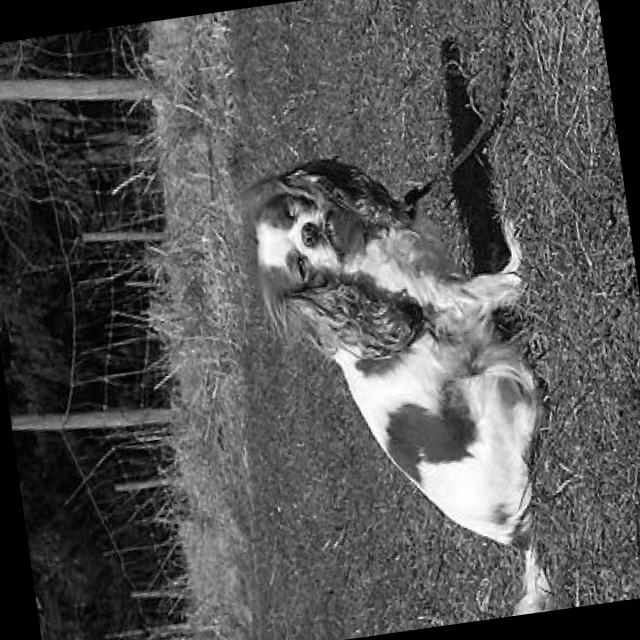sitting: (222, 129, 571, 640)
